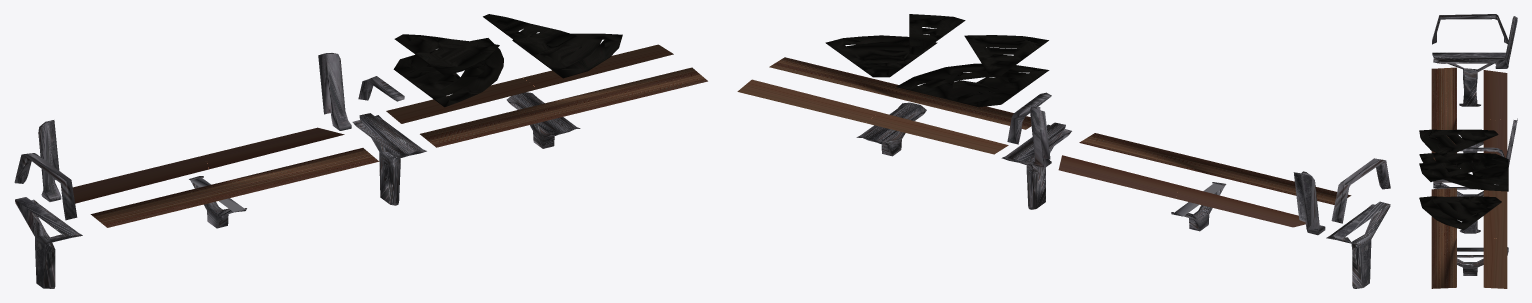
Rendered from modular_street_seating_lo.glb.
3 views of the same model, side by side, from view 1: azimuth 30°, elevation 25°; view 2: azimuth 150°, elevation 25°; view 3: azimuth 270°, elevation 25° (orthographic). The views are drawn at different scales.
Parts seen in each view (by area): view 1: seat, seat_bench, connector_90, legs_double, connector_60, connector_45, legs_single, connector_30, back_support_l, suspended_support_02, arm_rest_01, back_support_r (+2 smaller); view 2: seat_bench, seat, connector_90, connector_60, connector_45, legs_single, legs_double, connector_30, suspended_support_02, back_support_r, arm_rest_01, back_support_l (+2 smaller); view 3: seat_bench, seat, connector_90, connector_60, legs_single, connector_45, connector_30, arm_rest_01, suspended_support_02, legs_double, back_support_r, back_support_l (+2 smaller).
Boxes of the visible parts, left/top/right/bottom form: seat: left=72, top=127, right=378, bottom=227; seat_bench: left=386, top=44, right=707, bottom=147; connector_90: left=393, top=38, right=503, bottom=107; legs_double: left=352, top=113, right=426, bottom=205; connector_60: left=512, top=33, right=622, bottom=78; connector_45: left=394, top=34, right=499, bottom=75; legs_single: left=15, top=197, right=82, bottom=288; connector_30: left=483, top=14, right=576, bottom=54; back_support_l: left=318, top=53, right=351, bottom=130; suspended_support_02: left=506, top=92, right=580, bottom=148; arm_rest_01: left=14, top=153, right=77, bottom=220; back_support_r: left=38, top=120, right=61, bottom=201; seat_bench: left=737, top=57, right=1031, bottom=154; seat: left=1058, top=133, right=1351, bottom=227; connector_90: left=896, top=63, right=1049, bottom=107; connector_60: left=825, top=35, right=937, bottom=77; connector_45: left=964, top=35, right=1048, bottom=76; legs_single: left=1326, top=201, right=1390, bottom=288; legs_double: left=1001, top=122, right=1071, bottom=209; connector_30: left=909, top=14, right=965, bottom=54; suspended_support_02: left=856, top=102, right=926, bottom=156; back_support_r: left=1293, top=171, right=1325, bottom=235; arm_rest_01: left=1331, top=158, right=1390, bottom=223; back_support_l: left=1030, top=106, right=1051, bottom=168; seat_bench: left=1431, top=188, right=1507, bottom=288; seat: left=1431, top=67, right=1507, bottom=160; connector_90: left=1419, top=153, right=1508, bottom=191; connector_60: left=1419, top=196, right=1501, bottom=230; legs_single: left=1432, top=52, right=1505, bottom=106; connector_45: left=1419, top=129, right=1498, bottom=156; connector_30: left=1419, top=162, right=1497, bottom=181; arm_rest_01: left=1432, top=14, right=1508, bottom=44; suspended_support_02: left=1457, top=247, right=1508, bottom=275; legs_double: left=1433, top=179, right=1498, bottom=233; back_support_r: left=1495, top=16, right=1517, bottom=68; back_support_l: left=1506, top=118, right=1517, bottom=166.
Bounding box in the file's own units: 4.34 × 0.9421 × 0.769.
4 materials, 4 textured.
